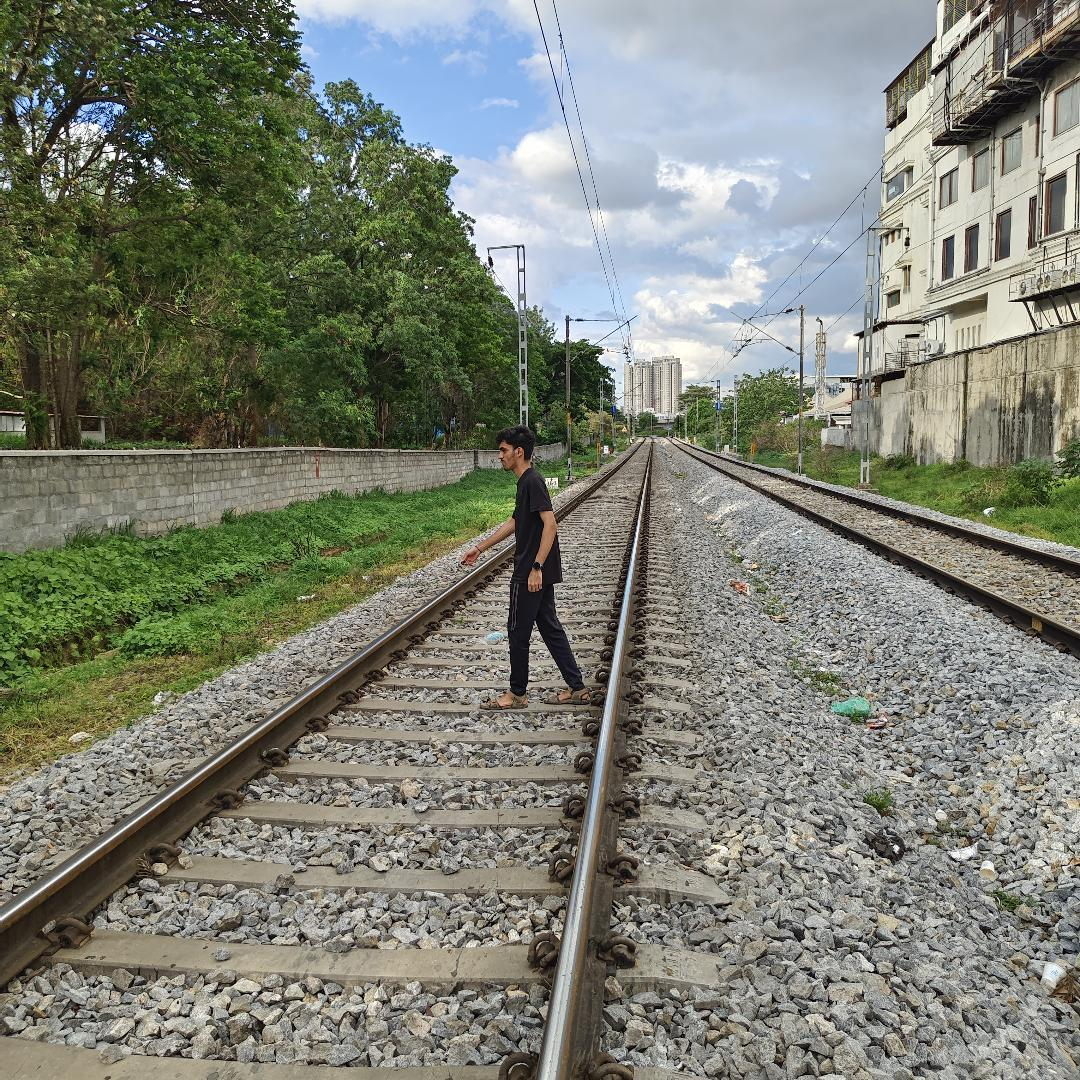standing: (477, 412, 606, 733)
